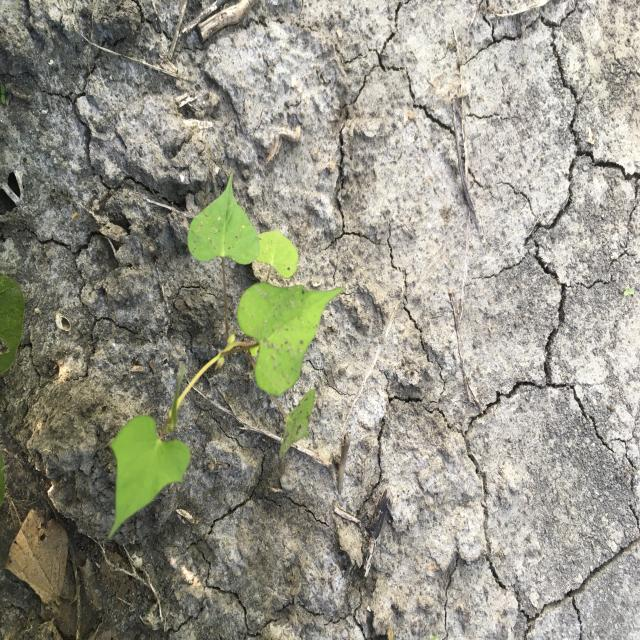MorningGlory: (108, 164, 347, 542)
